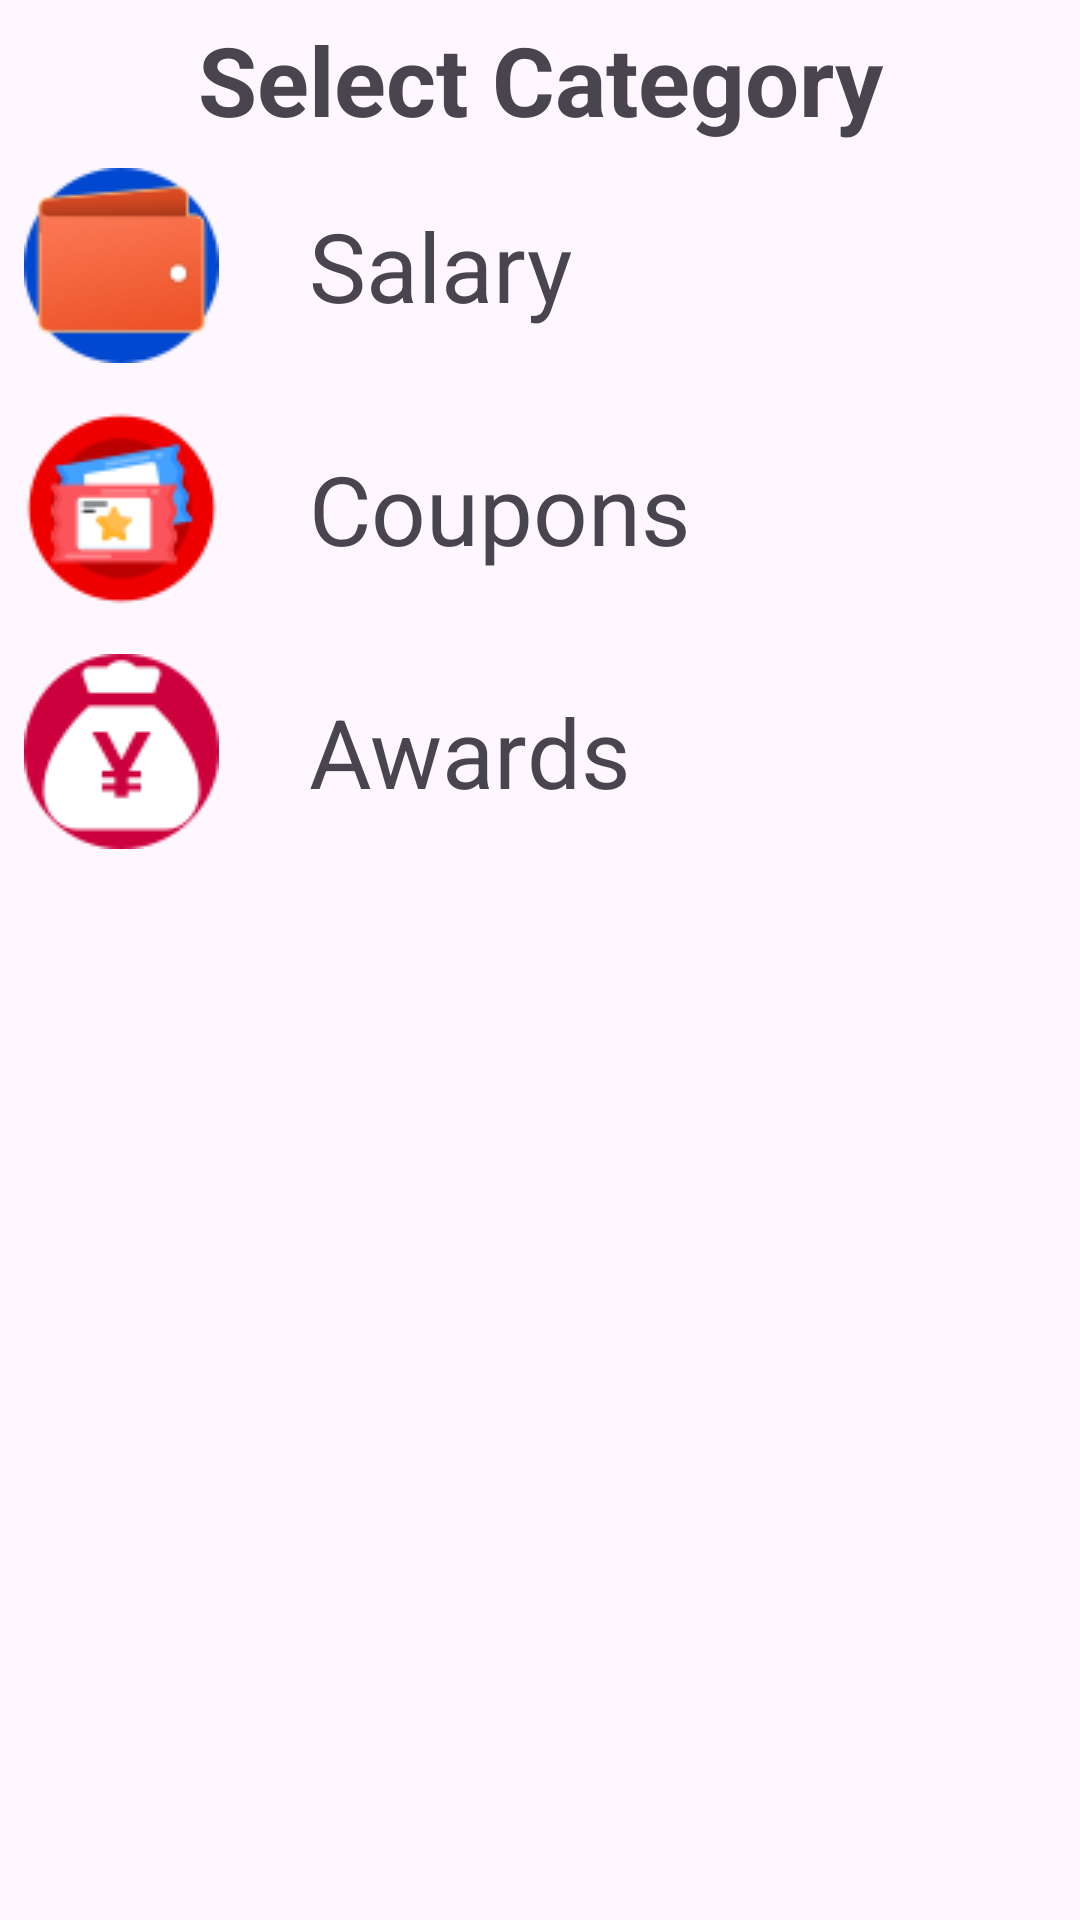

Icons on this 1080×1920 Android screen, each with the point to tap as point (x, y):
wallet: point (121, 265)
